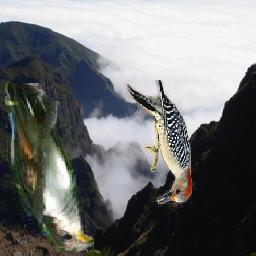Cuckoo: (6, 84, 95, 253)
Woodpecker: (124, 80, 200, 208)
